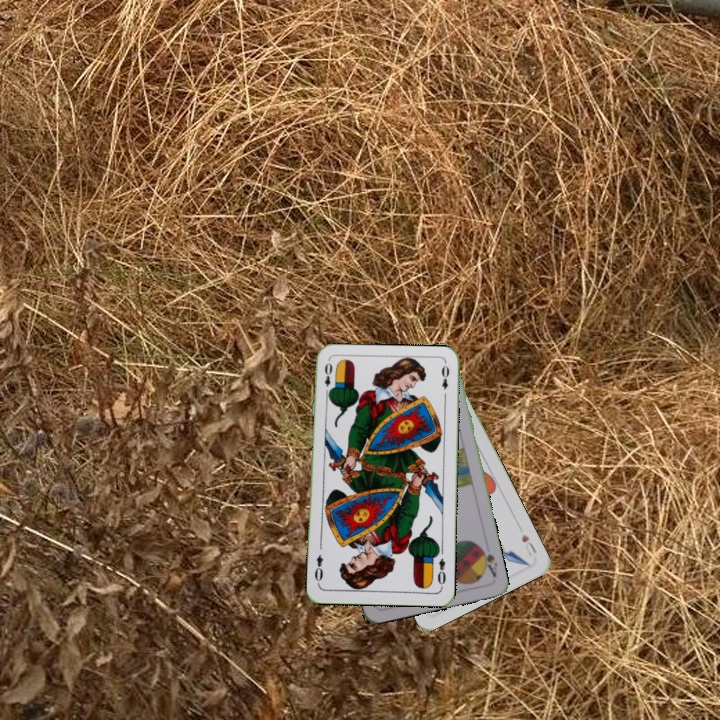EO: (320, 359, 334, 399), (434, 554, 448, 590)
HU: (518, 529, 539, 559)
SA: (476, 543, 500, 580)
